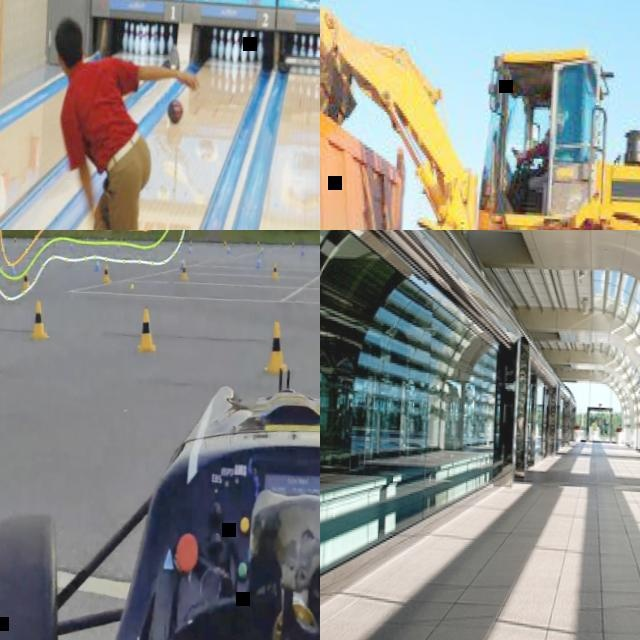NO-Hardhat: (52, 15, 82, 50)
NO-Safety Vest: (62, 58, 140, 166), (538, 127, 552, 169)
Person: (37, 14, 215, 230), (505, 109, 567, 218)
Safety Cone: (261, 316, 292, 373), (134, 304, 159, 356), (29, 299, 51, 342), (20, 267, 30, 297), (100, 259, 111, 285), (177, 258, 187, 282), (270, 258, 280, 281), (6, 257, 16, 278), (91, 253, 100, 275), (254, 252, 263, 272)
machinery: (320, 0, 640, 230), (320, 0, 416, 230)
vehicle: (0, 352, 320, 640)
